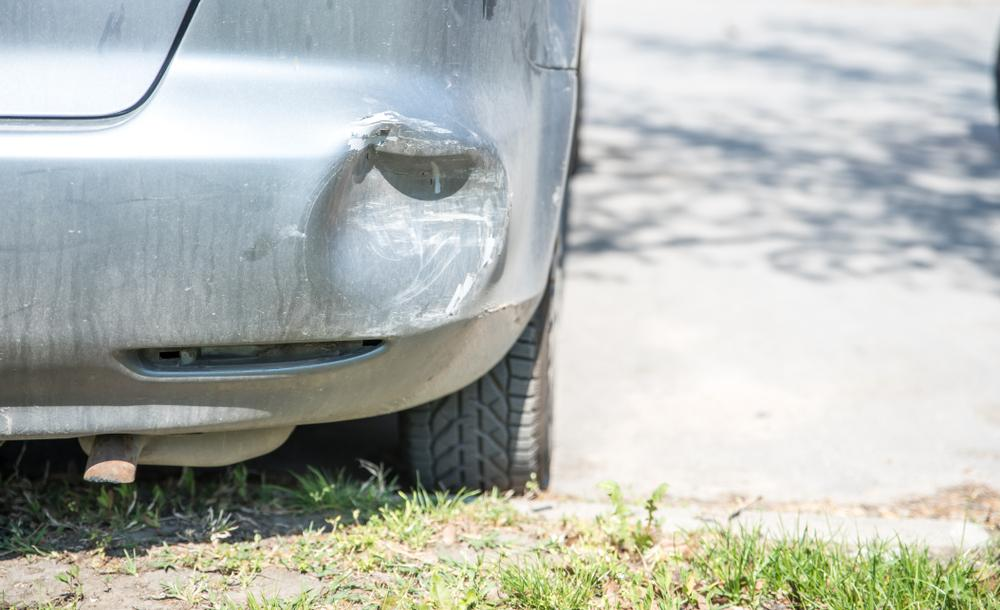dent: (303, 123, 511, 325)
